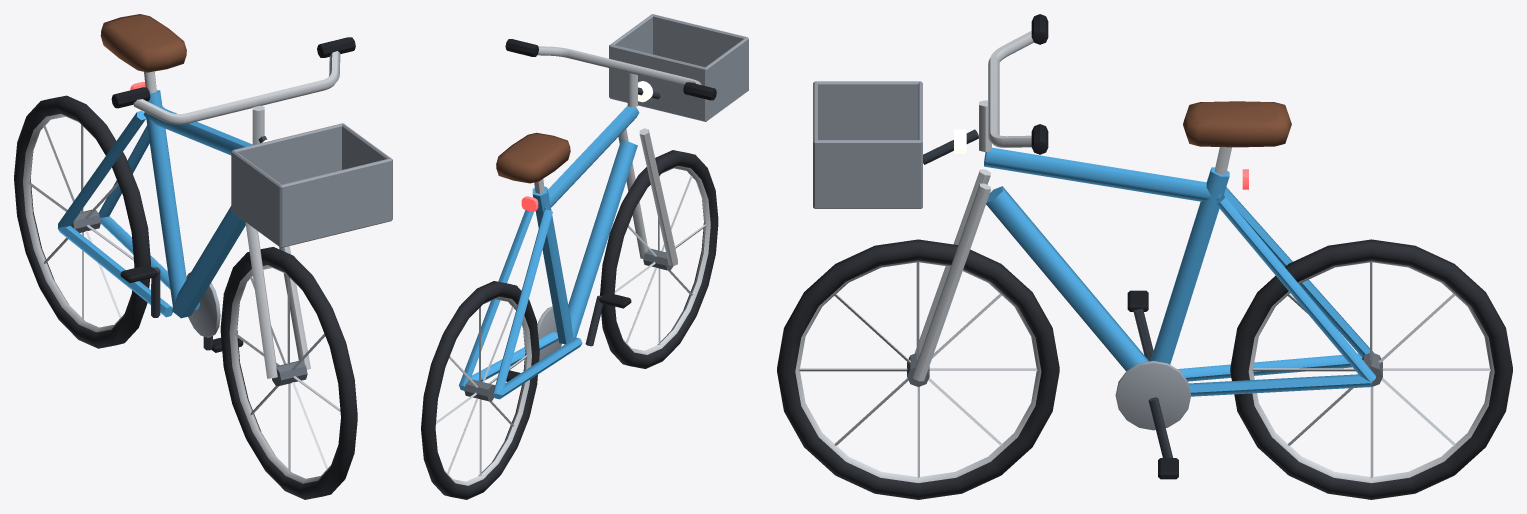
Rendered from bicicleta_azul.glb.
3 renders of one model, left to right at view 1: azimuth 30°, elevation 25°; view 2: azimuth 150°, elevation 25°; view 3: azimuth 270°, elevation 25°, orthographic. The views are drawn at different scales.
Parts seen in each view (by area): view 1: bicicleta_azul, roda_dianteira, roda_traseira; view 2: bicicleta_azul, roda_traseira, roda_dianteira; view 3: bicicleta_azul, roda_dianteira, roda_traseira.
Boxes of the visible parts, x1,y1,x2,y2 form: bicicleta_azul: [57, 14, 392, 378]; roda_dianteira: [220, 247, 357, 499]; roda_traseira: [14, 95, 150, 348]; bicicleta_azul: [459, 14, 748, 399]; roda_traseira: [421, 281, 539, 499]; roda_dianteira: [600, 150, 718, 368]; bicicleta_azul: [813, 14, 1375, 479]; roda_dianteira: [777, 239, 1059, 499]; roda_traseira: [1230, 239, 1512, 499].
Size of the model in its own units: 0.72 by 1.11 by 1.75.
Materials: 3 (1 with a texture image).
